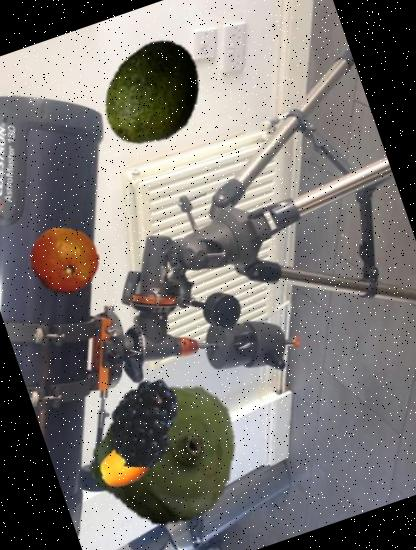Avocado: (83, 24, 224, 165)
Clementine: (18, 214, 110, 307)
Kohlrabi: (68, 358, 256, 548)
Kumquats: (92, 428, 162, 499)
Mulberry: (87, 366, 202, 480)
